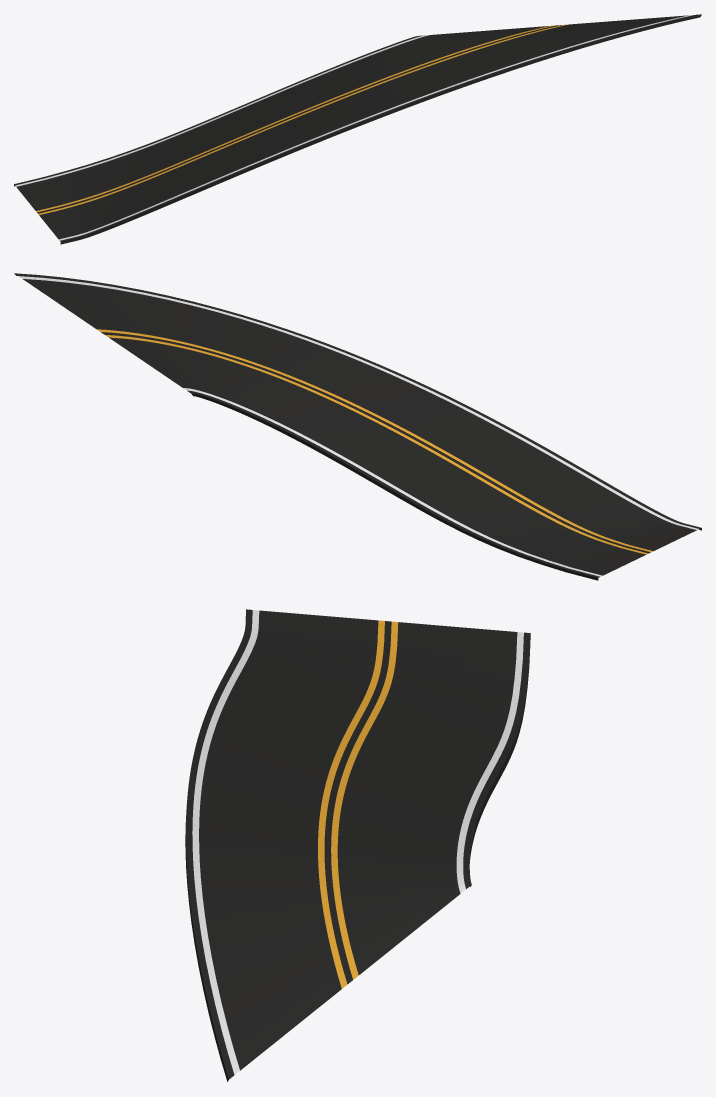
Rendered from track2.fbx.
The picture shows the model from 3 angles, top to bottom: view 1: azimuth 30°, elevation 25°; view 2: azimuth 150°, elevation 25°; view 3: azimuth 270°, elevation 25°; orthographic projection. The views are drawn at different scales.
Parts seen in each view (by area): view 1: Cube; view 2: Cube; view 3: Cube.
Boxes of the visible parts, x1,y1,x2,y2 form: Cube: (14,14,701,244); Cube: (14,273,701,580); Cube: (185,609,530,1081).
Bounding box in the file's own units: 10324 × 1302 × 2423.
